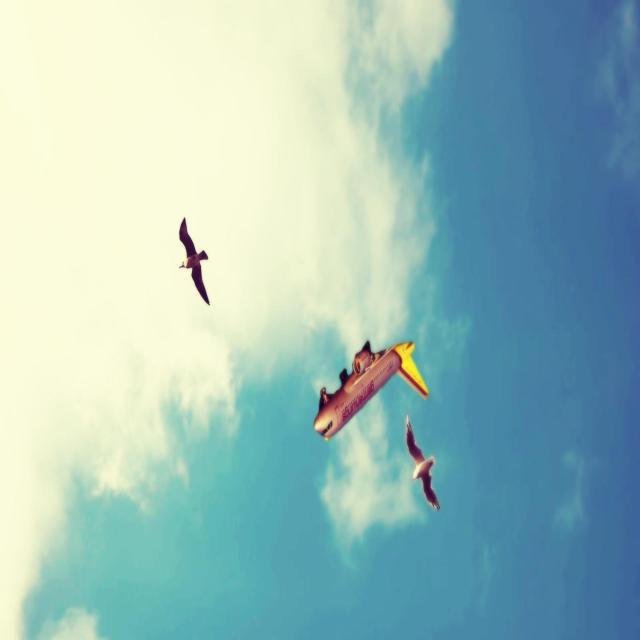airplane: (313, 338, 429, 442)
